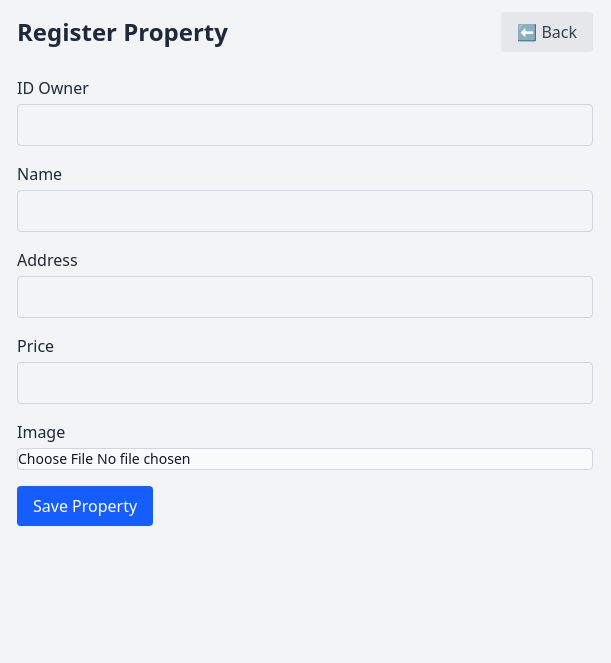
Test case: PropertyForm › shows validation messages if fields are empty
Click the button "Save Property". click: click(85, 506)
box: [17,486,153,526]
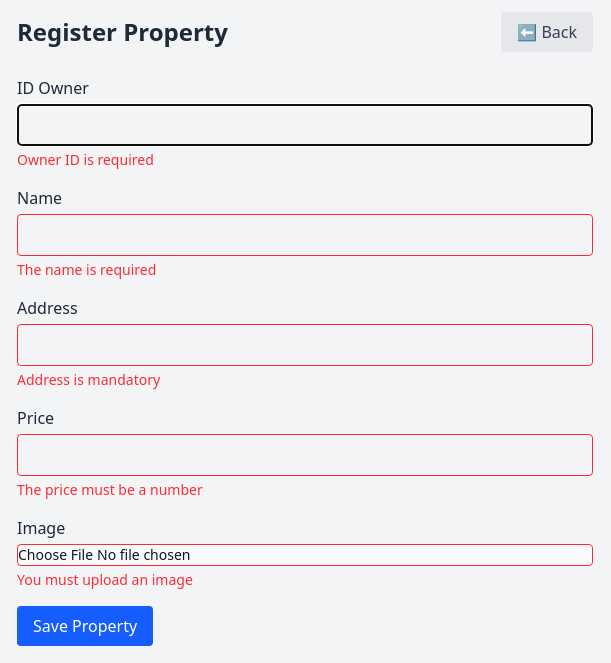
Expected: the text "Owner ID is required" is shown, [17,150,154,169]
Expected: the text "The name is required" is shown, [17,260,156,279]
Expected: the text "Address is mandatory" is shown, [17,370,160,389]
